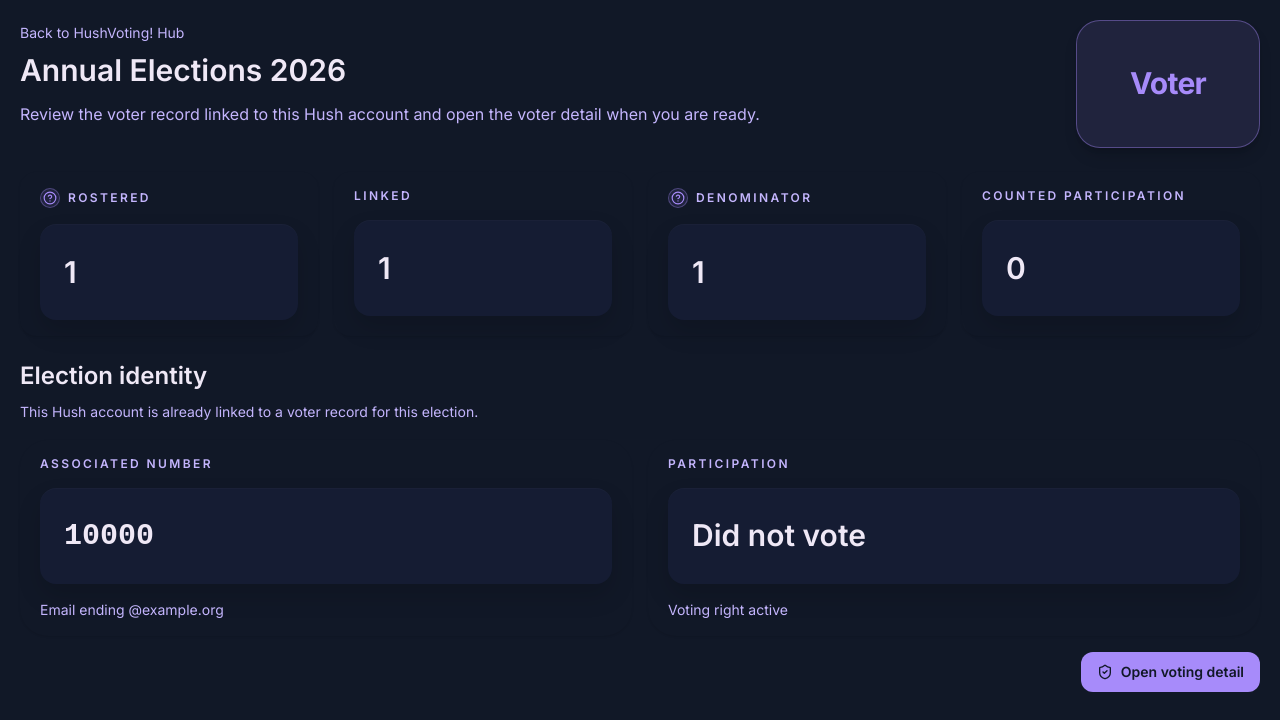
it: ElectionEligibilityPanel › opens and closes rostered and denominator explanations
This screenshot has width=1280, height=720.
Expected: the heading "Annual Elections 2026" is shown, [20,52,346,88]
Click the button named "about rostered" at (50, 198), box [40,188,60,208]
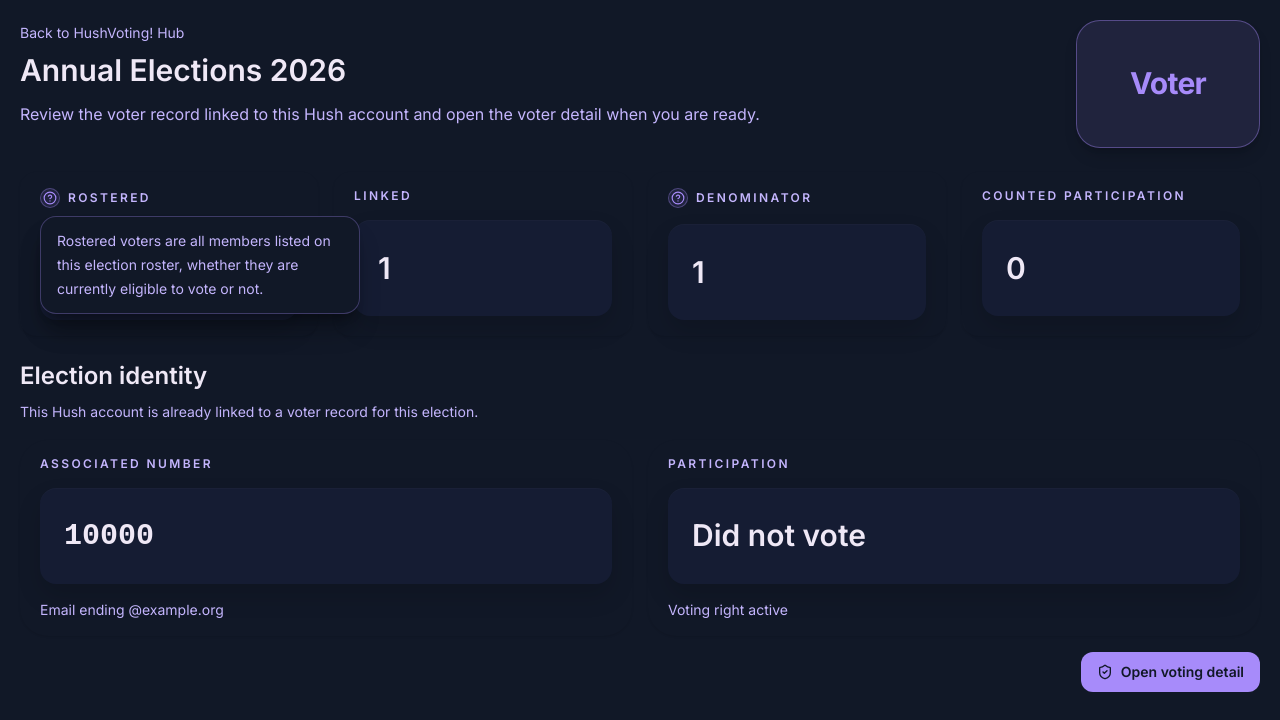
Expected: the text "Rostered voters are all members listed on this election roster, whether they are currently eligible to vote or not." is shown, [57,232,331,297]
Press the mouse on the element that starts with "Back to HushVoting! Hub" at (640, 356), box [0,0,1279,712]
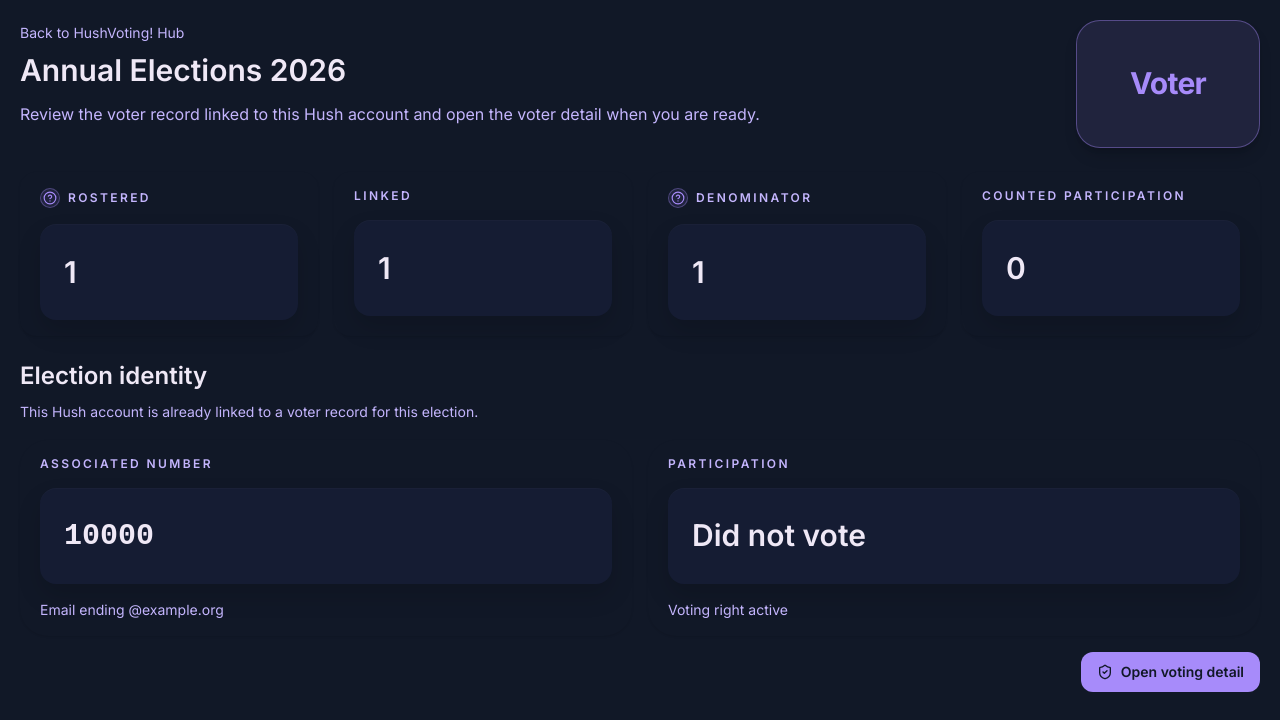
Expected: the text "Rostered voters are all members listed on this election roster, whether they are currently eligible to vote or not." is gone
Click the button named "about denominator" at (678, 198), box [668,188,688,208]
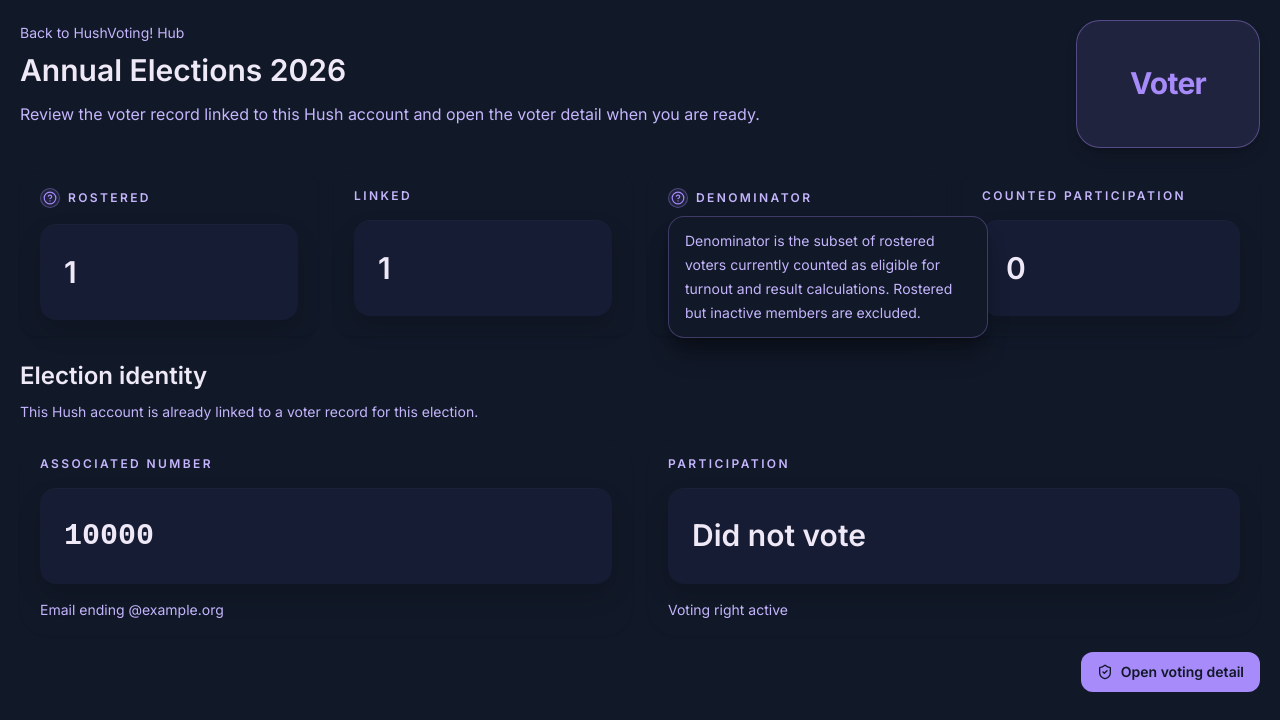
Expected: the text "Denominator is the subset of rostered voters currently counted as eligible for turnout and result calculations. Rostered" is shown, [685,232,952,321]
Press the mouse on the element that starts with "Back to HushVoting! Hub" at (640, 356), box [0,0,1279,712]
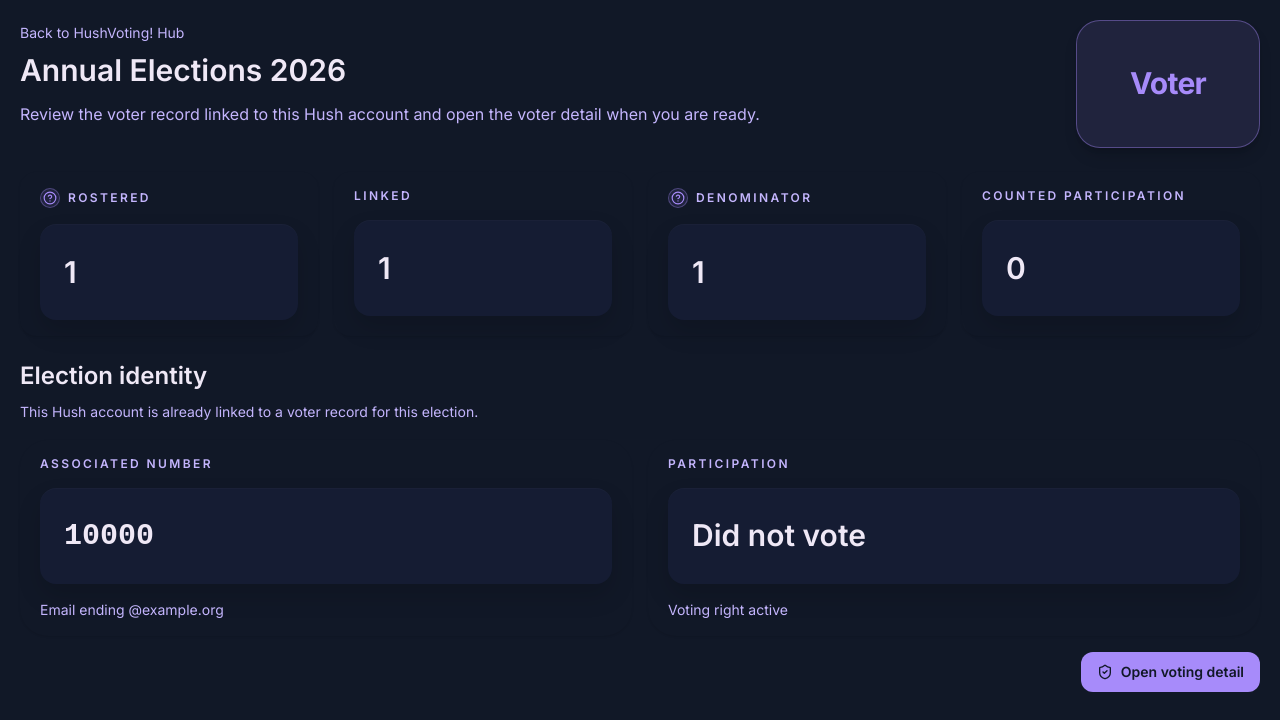
Expected: the text "Denominator is the subset of rostered voters currently counted as eligible for turnout and result calculations. Rostered" is gone
